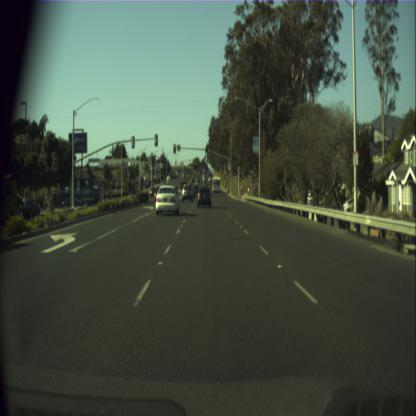Green: (249, 162, 252, 174), (206, 146, 208, 156)
RedLeft: (173, 144, 175, 153)
